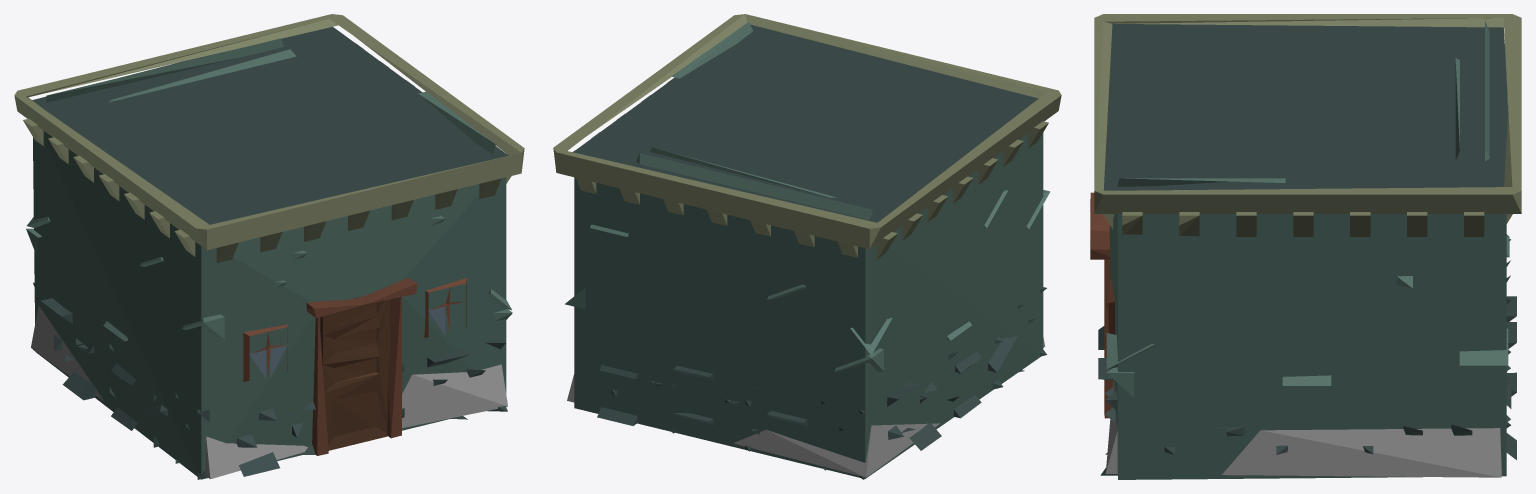
Rendered from 1Story_lod.glb.
3 views of the same model, side by side, from view 1: azimuth 30°, elevation 25°; view 2: azimuth 150°, elevation 25°; view 3: azimuth 270°, elevation 25° (orthographic). The views are drawn at different scales.
Parts seen in each view (by area): view 1: 1Story_Mat; view 2: 1Story_Mat; view 3: 1Story_Mat.
Boxes of the visible parts, x1,y1,x2,y2 form: 1Story_Mat: (14, 14, 524, 479); 1Story_Mat: (553, 14, 1061, 479); 1Story_Mat: (1090, 14, 1521, 479).
Size of the model in its own units: 2.15 by 1.65 by 2.17.
